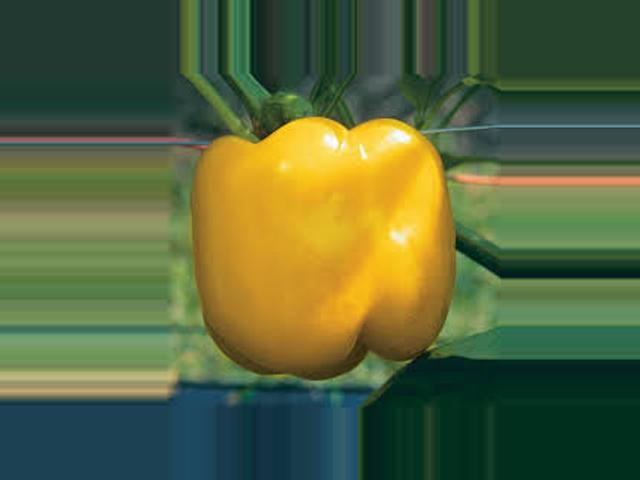bell_pepper: (175, 91, 475, 381)
